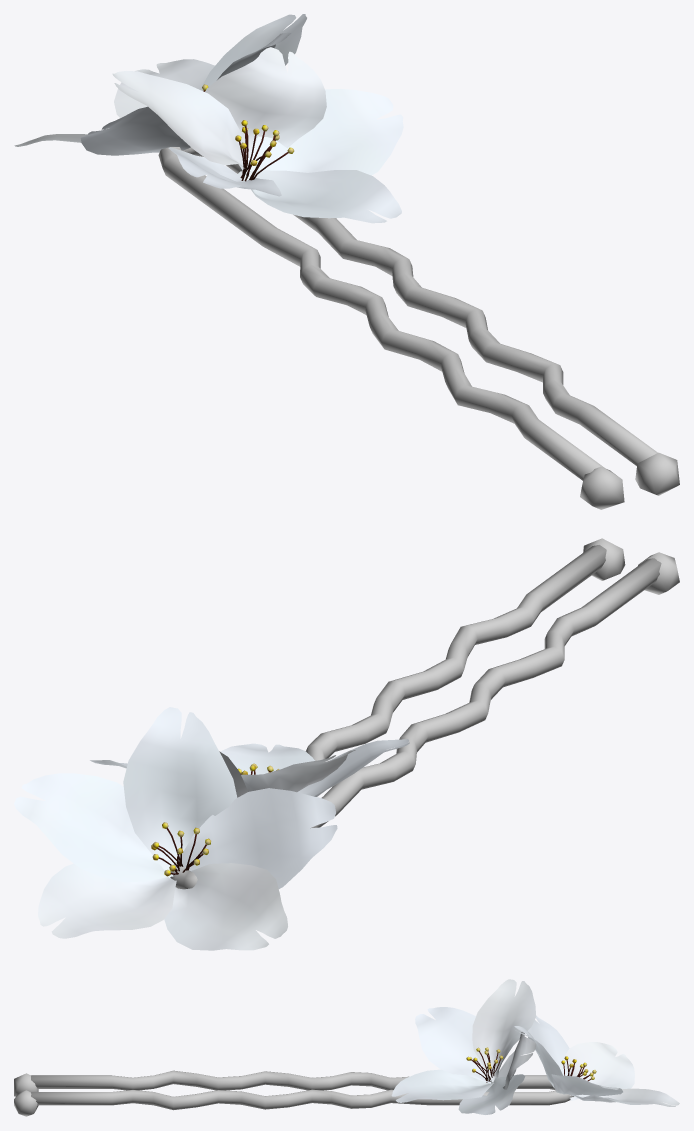
The model's file is hairpin.fbx.
3 views of the same model, one above another, from view 1: azimuth 30°, elevation 25°; view 2: azimuth 150°, elevation 25°; view 3: azimuth 270°, elevation 25° (orthographic). The views are drawn at different scales.
Visible parts, largest first — view 1: hairpin flower, hairpin, hairpin flower.001; view 2: hairpin flower.001, hairpin, hairpin flower; view 3: hairpin, hairpin flower, hairpin flower.001.
Boxes of the visible parts, x1,y1,x2,y2 form: hairpin flower: (112, 47, 403, 223); hairpin: (158, 147, 679, 509); hairpin flower.001: (14, 14, 306, 155); hairpin flower.001: (14, 707, 337, 950); hairpin: (170, 538, 679, 889); hairpin flower: (90, 739, 409, 797); hairpin: (14, 1070, 574, 1116); hairpin flower: (391, 979, 536, 1114); hairpin flower.001: (514, 1016, 679, 1106).
Size of the model in its own units: 0.1867 by 0.0978 by 0.6111.
